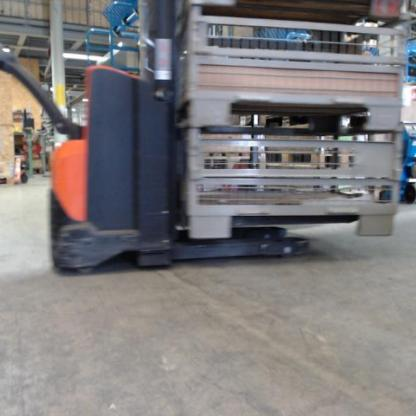pallet_truck: (1, 3, 322, 270), (13, 109, 32, 191)
stillage: (179, 12, 409, 132), (184, 125, 398, 235)
